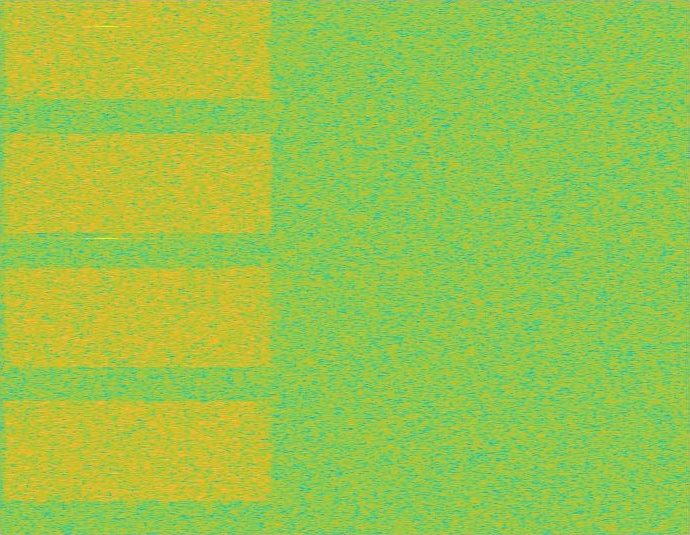5G: (0, 0, 276, 534)
Radar: (100, 0, 113, 534)
